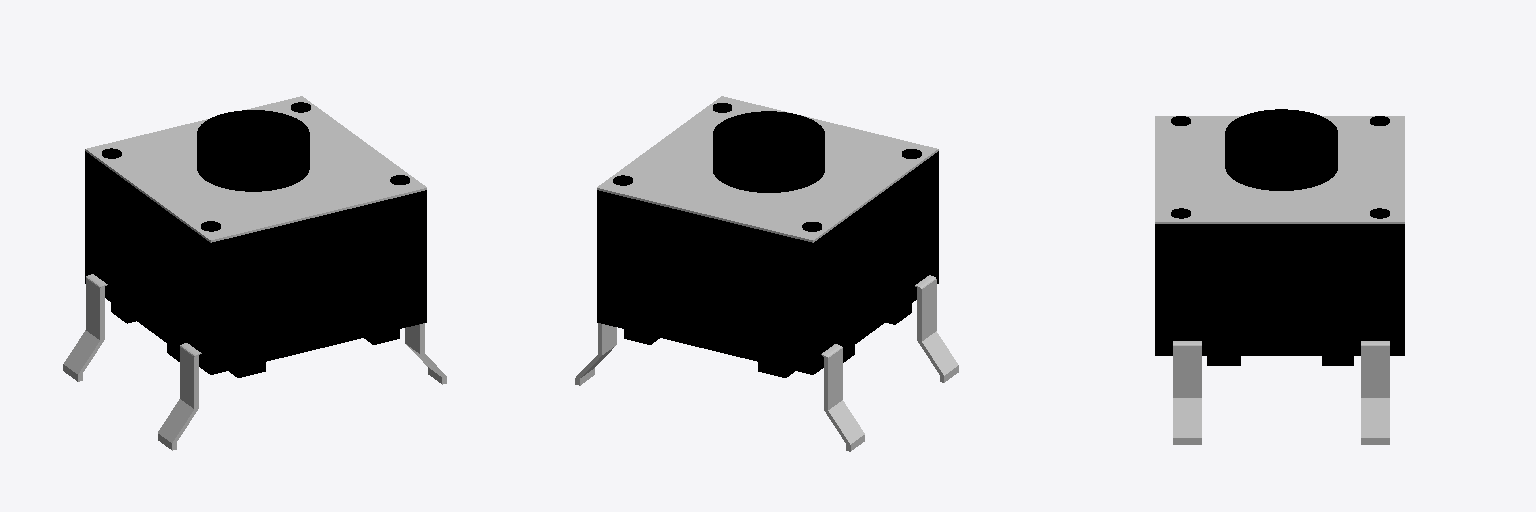
File: button.obj
3 renders of one model, left to right at view 1: azimuth 30°, elevation 25°; view 2: azimuth 150°, elevation 25°; view 3: azimuth 270°, elevation 25°, orthographic.
Visible parts, largest first — view 1: Cube, Plane, Cube.001; view 2: Cube, Plane, Cube.001; view 3: Cube, Plane, Cube.001.
Part boxes in pixels (x1,y1,x2,y2): Cube: (63, 102, 446, 450); Plane: (87, 96, 424, 239); Cube.001: (85, 96, 426, 242); Cube: (575, 103, 958, 451); Plane: (598, 96, 936, 239); Cube.001: (597, 96, 938, 242); Cube: (1155, 109, 1404, 444); Plane: (1156, 116, 1404, 220); Cube.001: (1155, 116, 1404, 223).
Bounding box in the file's own units: 0.0076 × 0.0065 × 0.006.